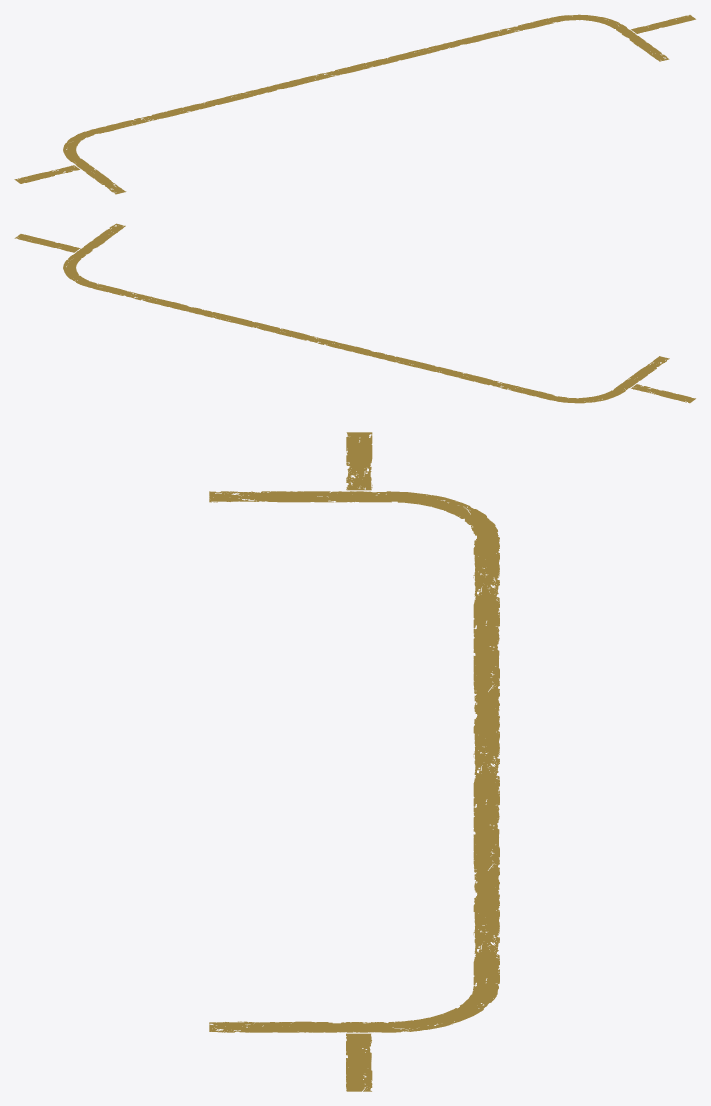
The model's file is SM_Floor_stripe_b.fbx.
3 renders of one model, top to bottom at view 1: azimuth 30°, elevation 25°; view 2: azimuth 150°, elevation 25°; view 3: azimuth 270°, elevation 25°, orthographic. The views are drawn at different scales.
Parts seen in each view (by area): view 1: SM_Floor_stripe_b_LOD0; view 2: SM_Floor_stripe_b_LOD0; view 3: SM_Floor_stripe_b_LOD0.
Boxes of the visible parts, bbox=[...] form: SM_Floor_stripe_b_LOD0: bbox=[14, 14, 695, 194]; SM_Floor_stripe_b_LOD0: bbox=[14, 223, 695, 403]; SM_Floor_stripe_b_LOD0: bbox=[209, 432, 499, 1091].
Size of the model in its own units: 300 by 56.15 by 8.83e-05.
Materials: 1 (1 with a texture image).
